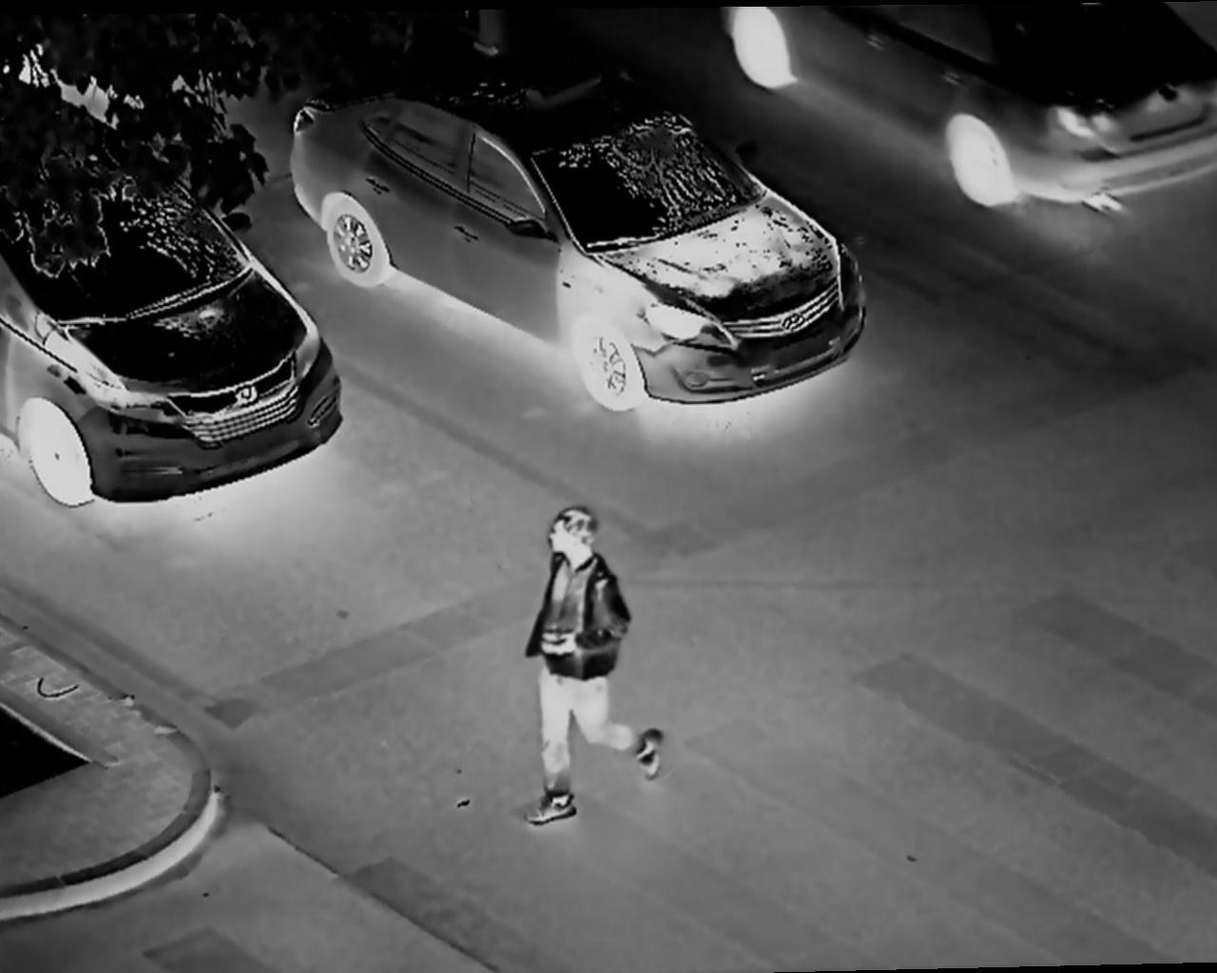person: (523, 504, 670, 837)
